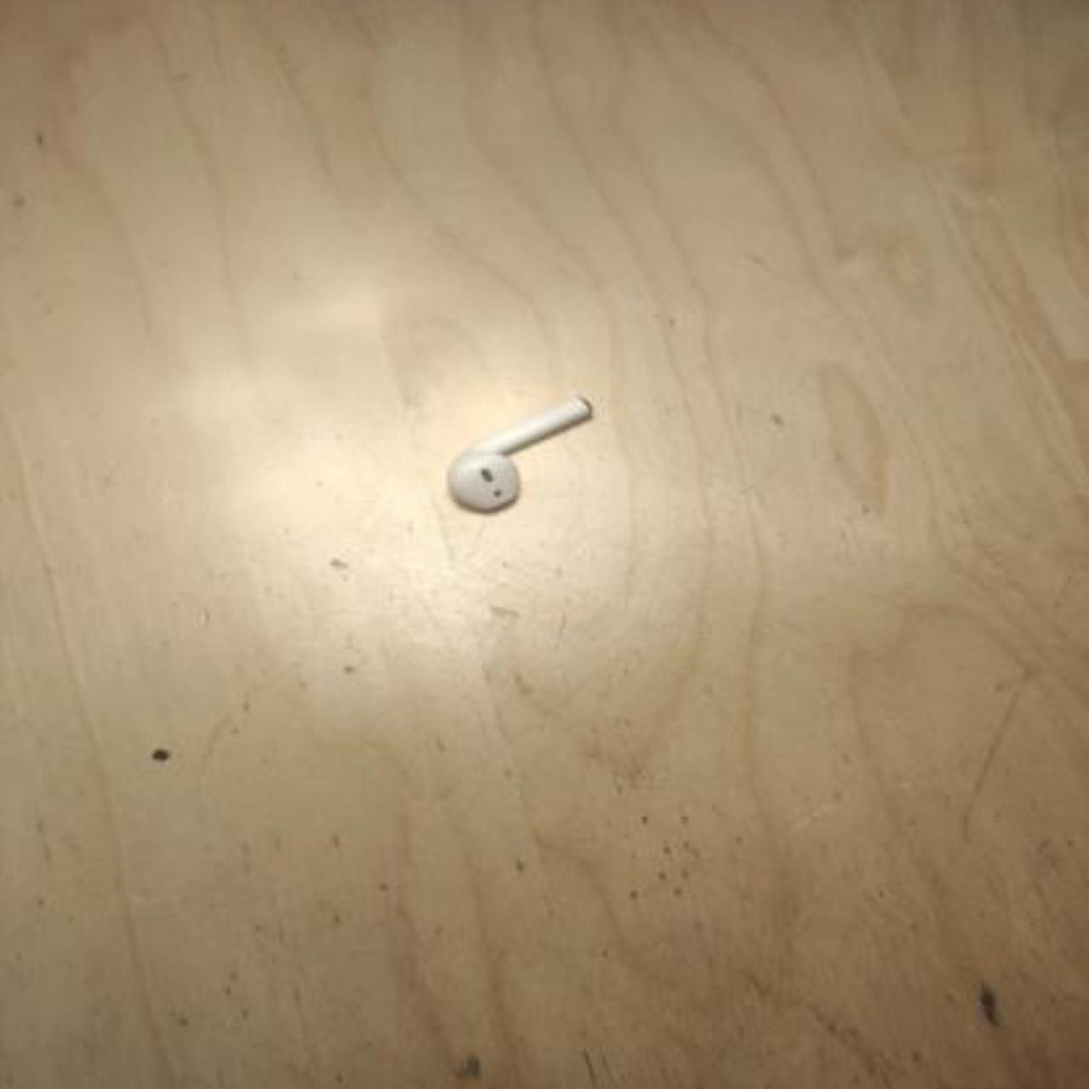Airpods_Units: (441, 394, 590, 509)
